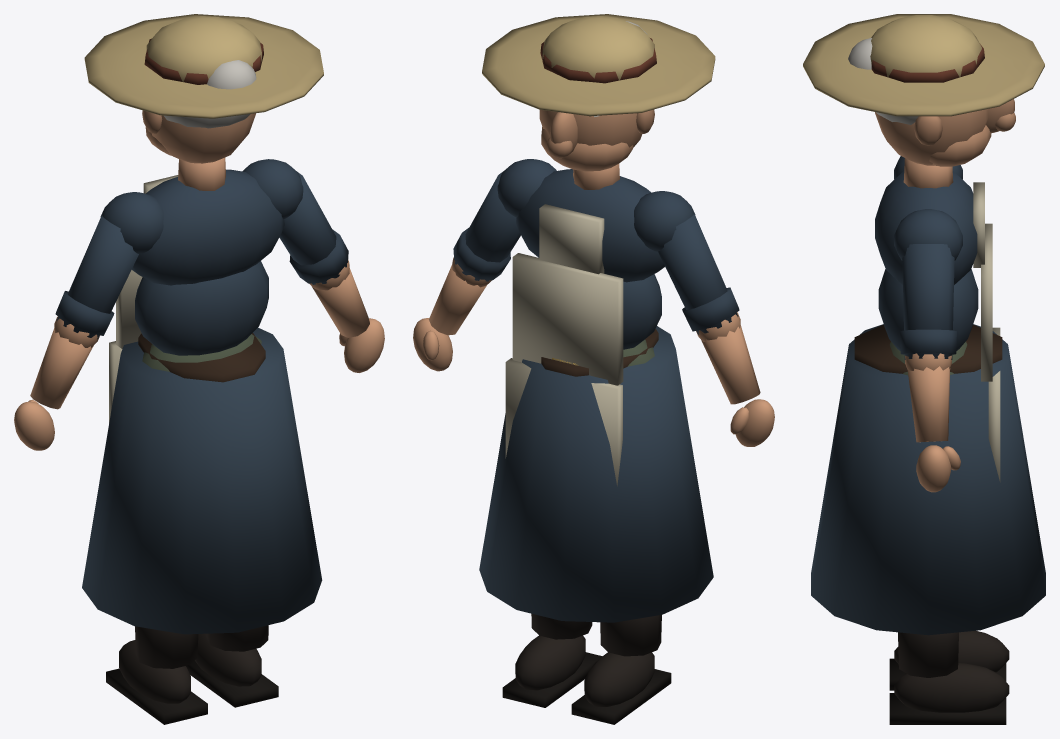
Rendered from pescadora_1.glb.
3 renders of one model, left to right at view 1: azimuth 30°, elevation 25°; view 2: azimuth 150°, elevation 25°; view 3: azimuth 270°, elevation 25°, orthographic. The views are drawn at different scales.
Visible parts, largest first — view 1: Hips, Head, Chest, Spine, RightUpperArm, RightFoot, LeftUpperArm, LeftFoot, RightForeArm, LeftForeArm, RightLowerLeg, RightHand (+3 smaller); view 2: Hips, Head, Chest, Spine, RightUpperArm, RightFoot, LeftFoot, LeftUpperArm, RightForeArm, LeftForeArm, RightLowerLeg, RightHand (+3 smaller); view 3: Hips, Head, Chest, LeftFoot, LeftUpperArm, Spine, LeftForeArm, LeftLowerLeg, RightFoot, LeftHand, Neck.
Boxes of the visible parts, box(x1,y1,x2,y2) form: Hips: box(82, 327, 322, 634); Head: box(84, 14, 323, 163); Chest: box(100, 159, 303, 285); Spine: box(116, 261, 268, 355); RightUpperArm: box(55, 215, 138, 339); RightFoot: box(106, 640, 207, 724); LeftUpperArm: box(279, 172, 348, 284); LeftFoot: box(186, 633, 278, 707); RightForeArm: box(30, 316, 99, 409); LeftForeArm: box(309, 259, 369, 337); RightLowerLeg: box(135, 626, 198, 668); RightHand: box(14, 399, 54, 450); Hips: box(479, 326, 713, 622); Head: box(482, 14, 715, 171); Chest: box(497, 159, 695, 282); Spine: box(512, 253, 661, 385); RightUpperArm: box(658, 213, 739, 334); RightFoot: box(571, 652, 671, 724); LeftFoot: box(502, 635, 602, 707); LeftUpperArm: box(453, 172, 520, 281); RightForeArm: box(696, 312, 760, 404); LeftForeArm: box(429, 257, 491, 335); RightLowerLeg: box(600, 615, 661, 656); RightHand: box(730, 399, 774, 446); Hips: box(811, 324, 1045, 635); Head: box(803, 14, 1044, 166); Chest: box(875, 156, 984, 284); LeftFoot: box(889, 663, 1009, 724); LeftUpperArm: box(900, 244, 956, 359); Spine: box(878, 223, 992, 381); LeftForeArm: box(905, 353, 951, 442); LeftLowerLeg: box(898, 632, 958, 677); RightFoot: box(889, 630, 1009, 690); LeftHand: box(916, 445, 960, 492); Neck: box(903, 158, 953, 188).
Size of the model in its own units: 1.09 by 1.91 by 0.625.
